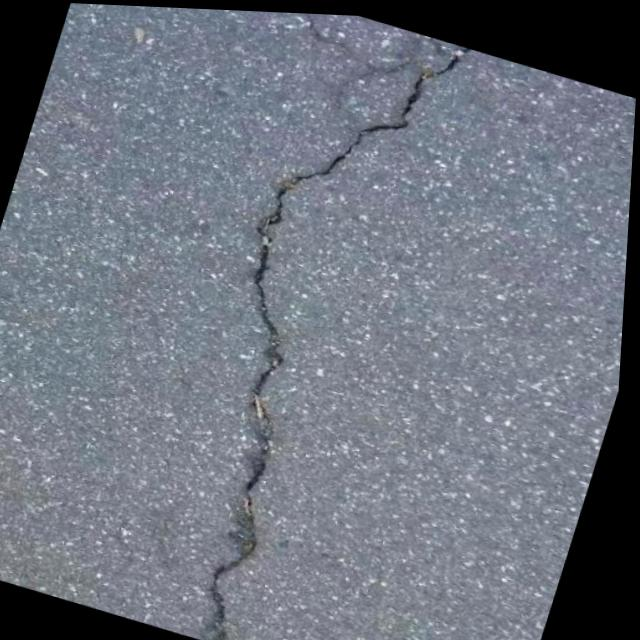Crack: (120, 5, 494, 640)
